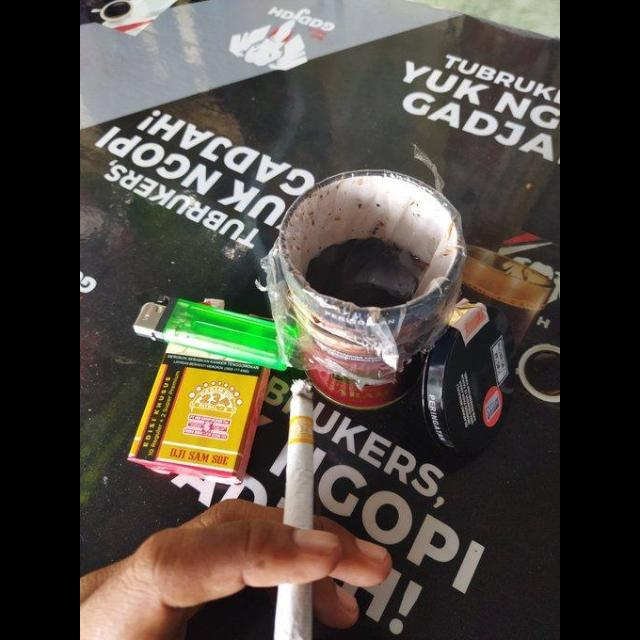rokok: (267, 380, 321, 640)
